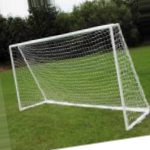goals: (7, 20, 150, 132)
